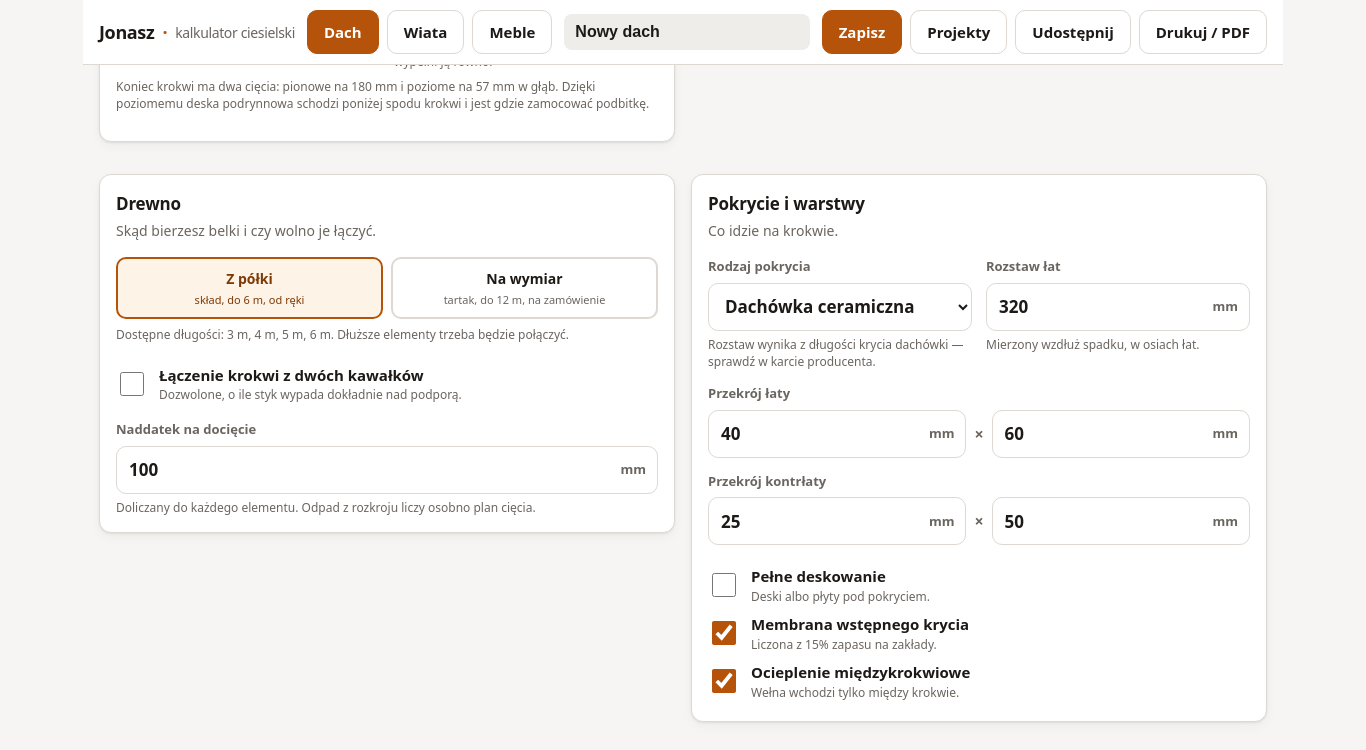
Test: aplikacja jako całość › włączenie łączenia krokwi rozbija je na dwa odcinki
The image size is (1366, 750).
(page scrolled)
Click the checkbox labelled "Łączenie krokwi": point(132, 384) [120,372,144,396]
(page scrolled)
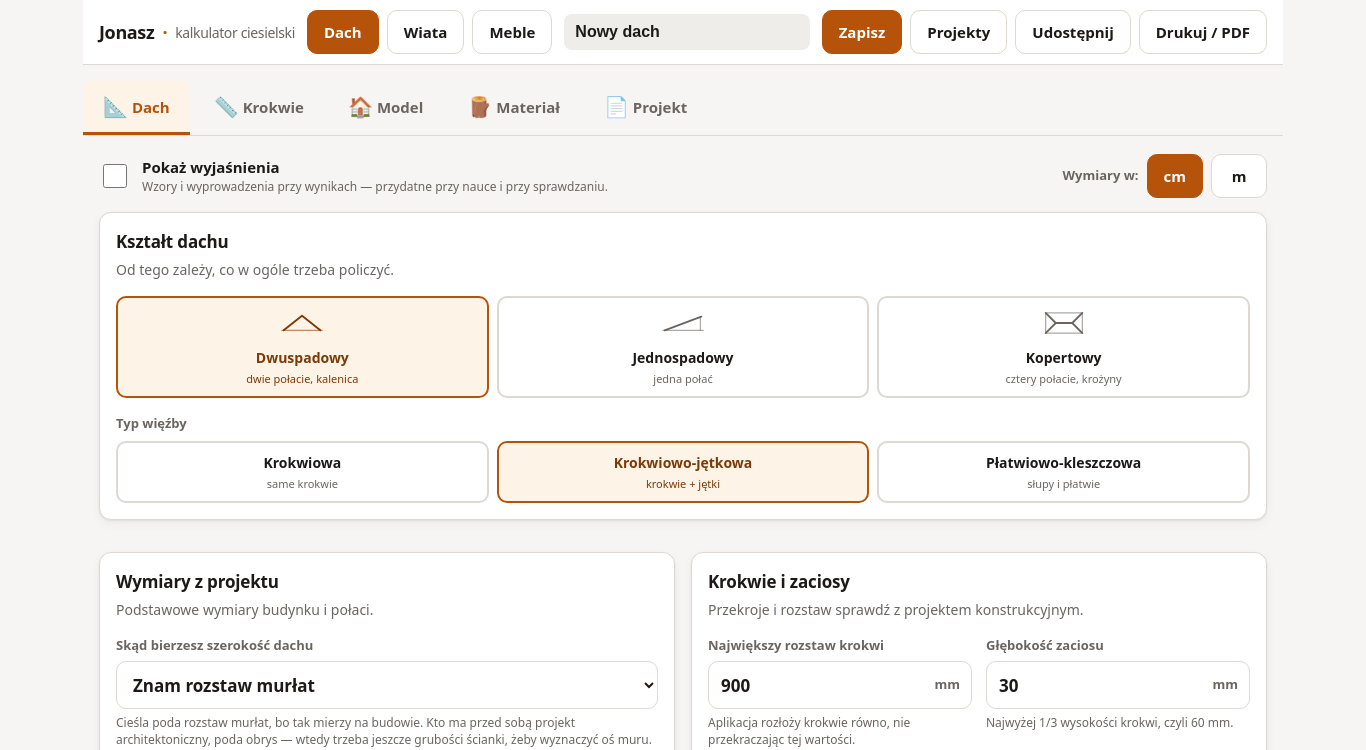
Click the tab "📏 Krokwie": point(259, 108) [194,81,324,135]
(page scrolled)
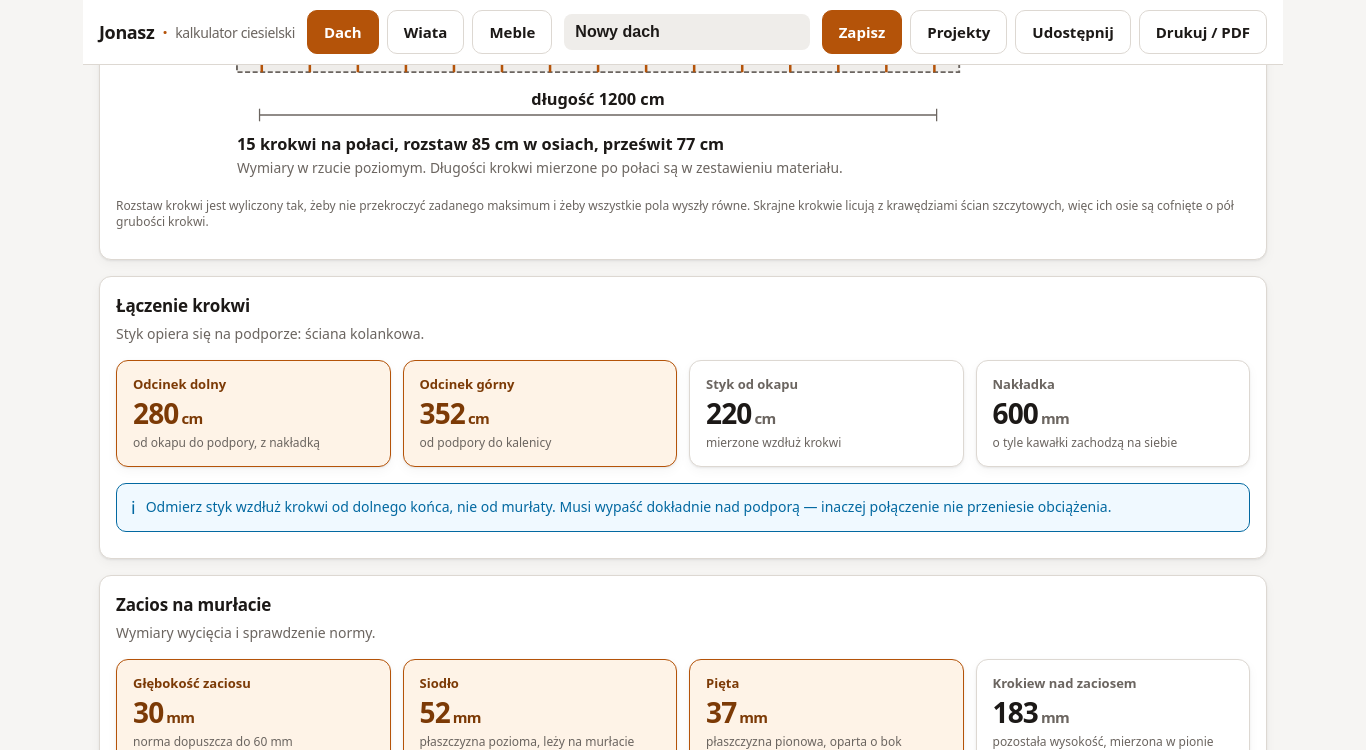
Result: the text "Odcinek dolny" is shown at [133,375,226,393]
Result: the text "Odcinek górny" is shown at [420,375,514,393]
